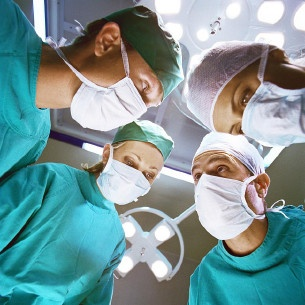Mask: (109, 149, 164, 204)
